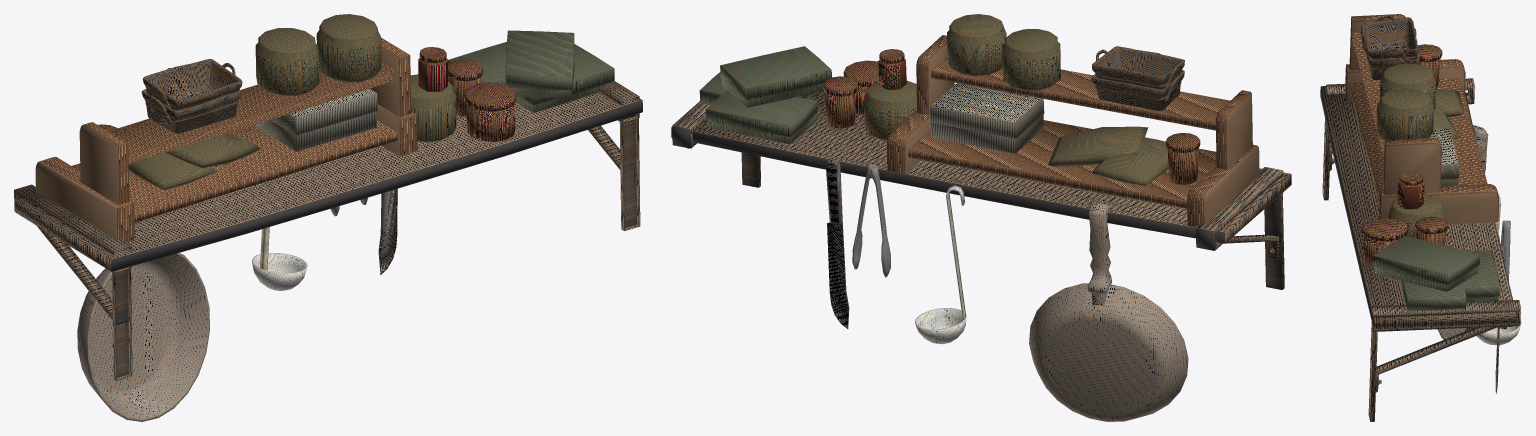
The model's file is Küche Regal.fbx.
The picture shows the model from 3 angles, left to right: view 1: azimuth 30°, elevation 25°; view 2: azimuth 150°, elevation 25°; view 3: azimuth 270°, elevation 25°; orthographic projection. The views are drawn at different scales.
Visible parts, largest first — view 1: mesh_628, mesh_191, mesh_336, mesh_262, mesh_238, mesh_229, mesh_312, mesh_115, mesh_272, mesh_228, mesh_311, mesh_259 (+8 smaller); view 2: mesh_191, mesh_628, mesh_336, mesh_262, mesh_272, mesh_261, mesh_229, mesh_238, mesh_243, mesh_312, mesh_335, mesh_228 (+10 smaller); view 3: mesh_628, mesh_191, mesh_262, mesh_238, mesh_312, mesh_259, mesh_229, mesh_261, mesh_115, mesh_228, mesh_110, mesh_272 (+9 smaller).
Part boxes in pixels (<box>): mesh_628: <box>14,77,642,380</box>; mesh_191: <box>35,37,417,241</box>; mesh_336: <box>77,252,209,421</box>; mesh_262: <box>505,30,574,98</box>; mesh_238: <box>316,14,381,82</box>; mesh_229: <box>255,28,319,95</box>; mesh_312: <box>142,59,242,110</box>; mesh_115: <box>464,82,516,141</box>; mesh_272: <box>270,88,377,135</box>; mesh_228: <box>410,74,456,142</box>; mesh_311: <box>141,89,241,133</box>; mesh_259: <box>515,44,614,112</box>; mesh_191: <box>887,35,1259,226</box>; mesh_628: <box>671,90,1291,289</box>; mesh_336: <box>1029,203,1188,421</box>; mesh_262: <box>720,46,831,107</box>; mesh_272: <box>930,83,1044,138</box>; mesh_261: <box>706,90,817,143</box>; mesh_229: <box>1002,29,1060,90</box>; mesh_238: <box>947,14,1006,76</box>; mesh_243: <box>1048,126,1148,166</box>; mesh_312: <box>1092,46,1184,89</box>; mesh_335: <box>825,159,849,328</box>; mesh_228: <box>864,80,916,140</box>; mesh_628: <box>1320,78,1520,421</box>; mesh_191: <box>1345,14,1499,224</box>; mesh_262: <box>1372,236,1479,291</box>; mesh_238: <box>1376,88,1434,140</box>; mesh_312: <box>1360,15,1418,61</box>; mesh_259: <box>1400,280,1466,311</box>; mesh_229: <box>1379,63,1435,109</box>; mesh_261: <box>1455,250,1499,302</box>; mesh_115: <box>1361,218,1408,265</box>; mesh_228: <box>1388,194,1445,238</box>; mesh_110: <box>1397,172,1424,209</box>; mesh_272: <box>1430,128,1458,179</box>.
Bounding box in the file's own units: 121 × 73.74 × 43.37.
11 materials, 11 textured.
